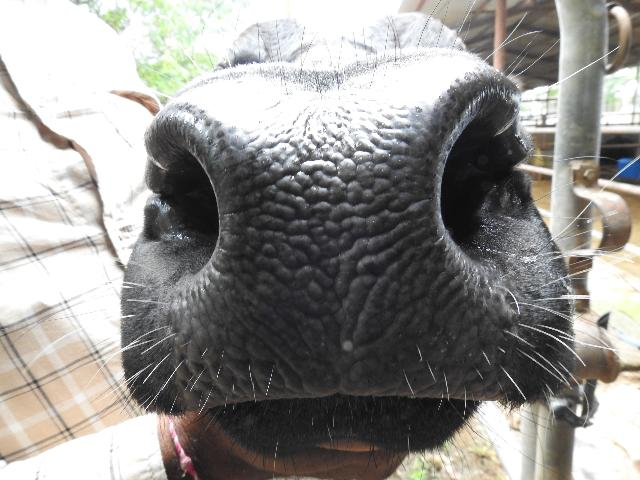Muzzle: (215, 106, 441, 388)
